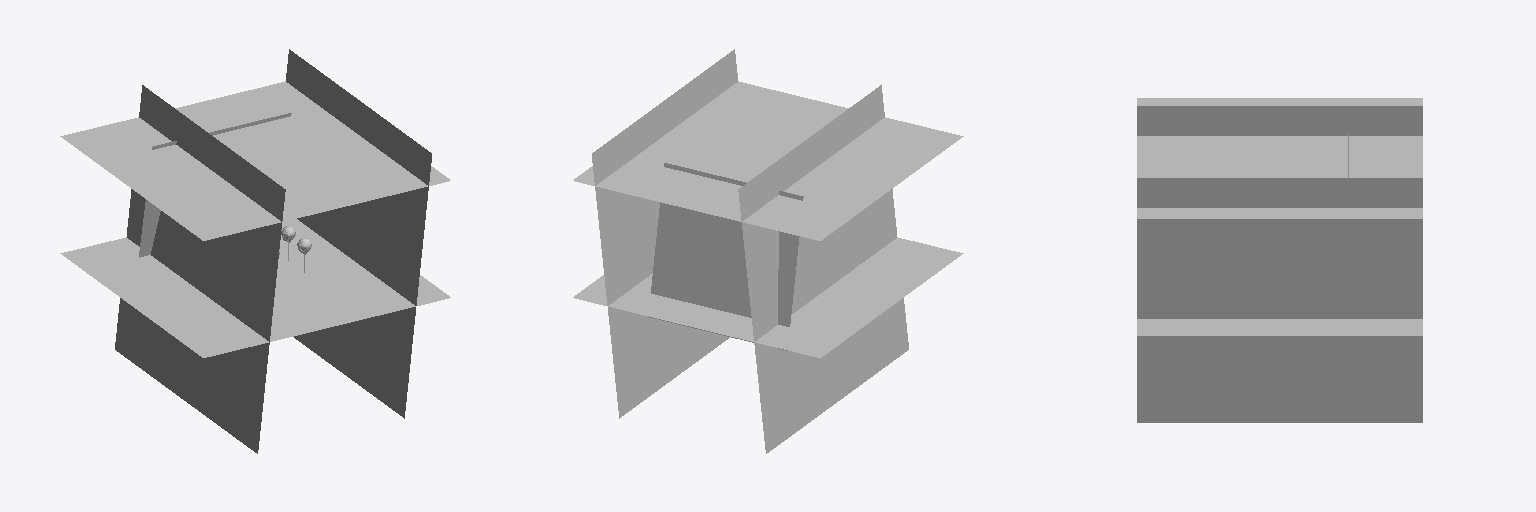
Rendered from lolipop.obj.
3 views of the same model, side by side, from view 1: azimuth 30°, elevation 25°; view 2: azimuth 150°, elevation 25°; view 3: azimuth 270°, elevation 25° (orthographic).
Parts seen in each view (by area): view 1: Plane.003_Plane.010, Plane.002, Plane.004_Plane.011, Plane, Plane.001; view 2: Plane.003_Plane.010, Plane.002, Plane.004_Plane.011, Plane, Plane.001; view 3: Plane.004_Plane.011, Plane.003_Plane.010, Plane.002, Plane.
Part boxes in pixels (left/top/right/bottom): Plane.003_Plane.010: left=60, top=81, right=450, bottom=240; Plane.002: left=115, top=85, right=285, bottom=453; Plane.004_Plane.011: left=286, top=49, right=431, bottom=418; Plane: left=60, top=219, right=450, bottom=357; Plane.001: left=139, top=113, right=291, bottom=257; Plane.003_Plane.010: left=573, top=81, right=963, bottom=240; Plane.002: left=738, top=85, right=908, bottom=453; Plane.004_Plane.011: left=592, top=49, right=737, bottom=418; Plane: left=573, top=237, right=963, bottom=357; Plane.001: left=648, top=163, right=803, bottom=350; Plane.004_Plane.011: left=1137, top=178, right=1422, bottom=422; Plane.003_Plane.010: left=1137, top=98, right=1422, bottom=218; Plane.002: left=1137, top=106, right=1422, bottom=135; Plane: left=1137, top=319, right=1422, bottom=335.
Bounding box in the file's own units: 25.32 × 25.16 × 25.32.